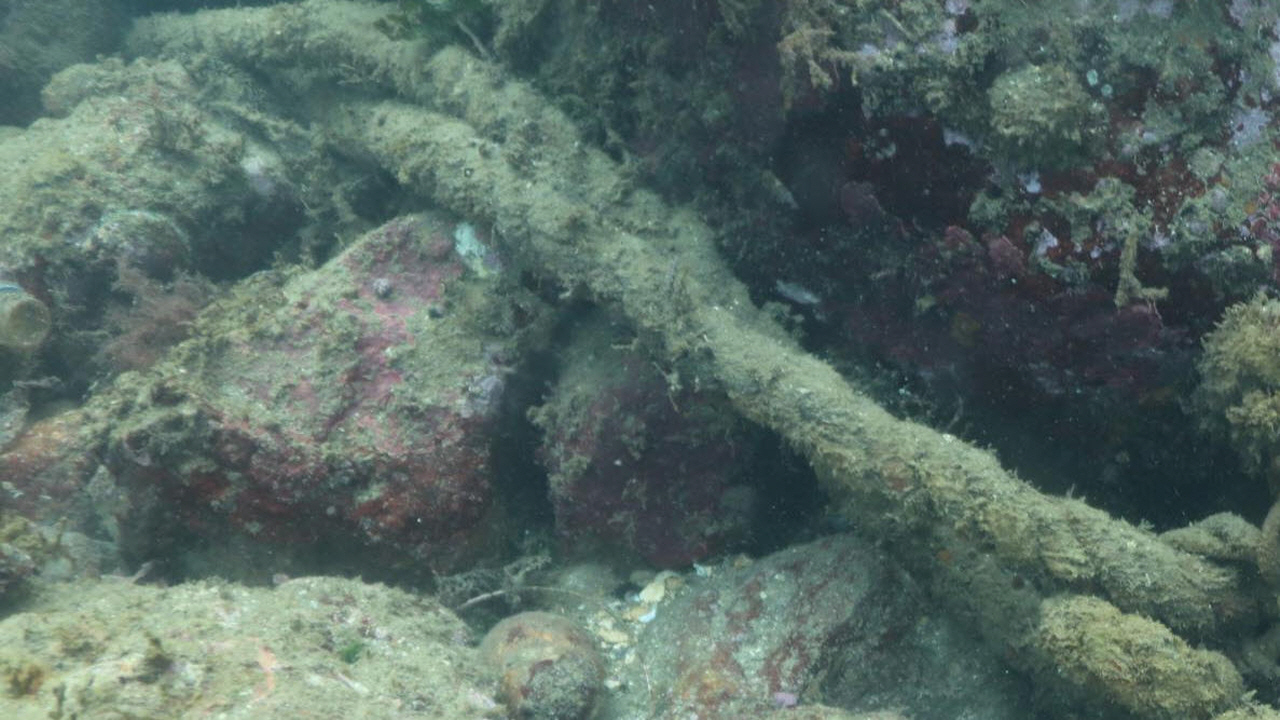bundle of ropes: (123, 3, 1280, 720)
